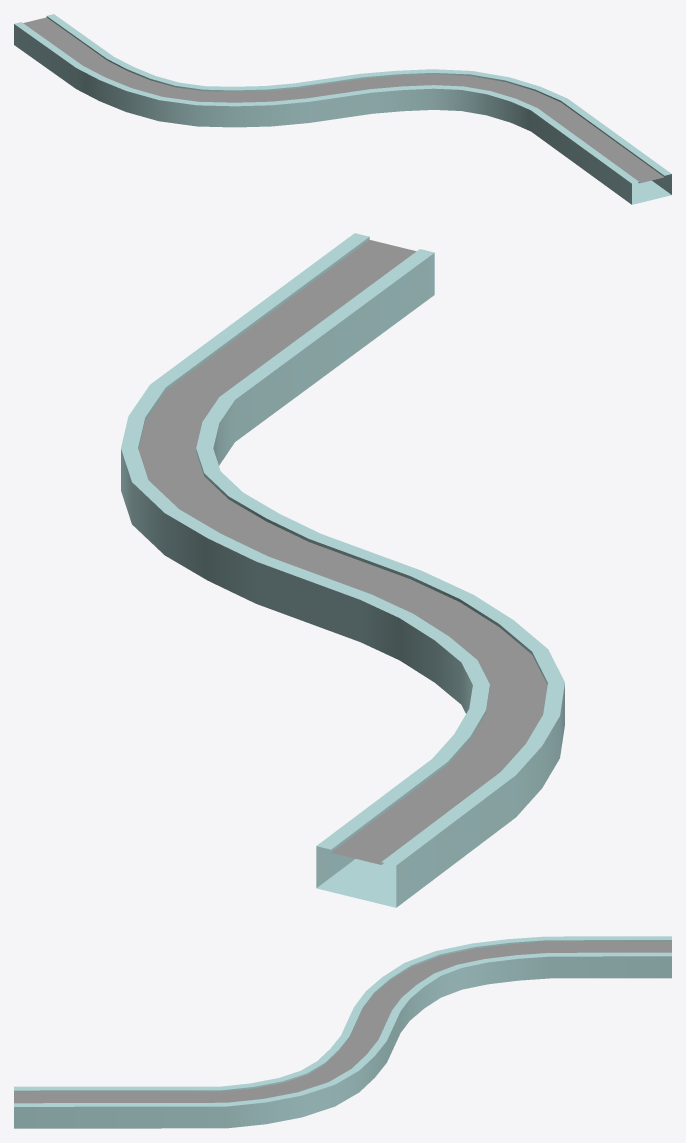
The model's file is curve_leftt#2.fbx.
3 renders of one model, top to bottom at view 1: azimuth 30°, elevation 25°; view 2: azimuth 150°, elevation 25°; view 3: azimuth 270°, elevation 25°, orthographic. The views are drawn at different scales.
Parts seen in each view (by area): view 1: curve_left#2; view 2: curve_left#2; view 3: curve_left#2.
Part boxes in pixels (left/top/right/bottom): curve_left#2: left=14, top=14, right=671, bottom=204; curve_left#2: left=121, top=233, right=564, bottom=907; curve_left#2: left=14, top=936, right=671, bottom=1128.
Size of the model in its own units: 1725 by 104 by 2804.
